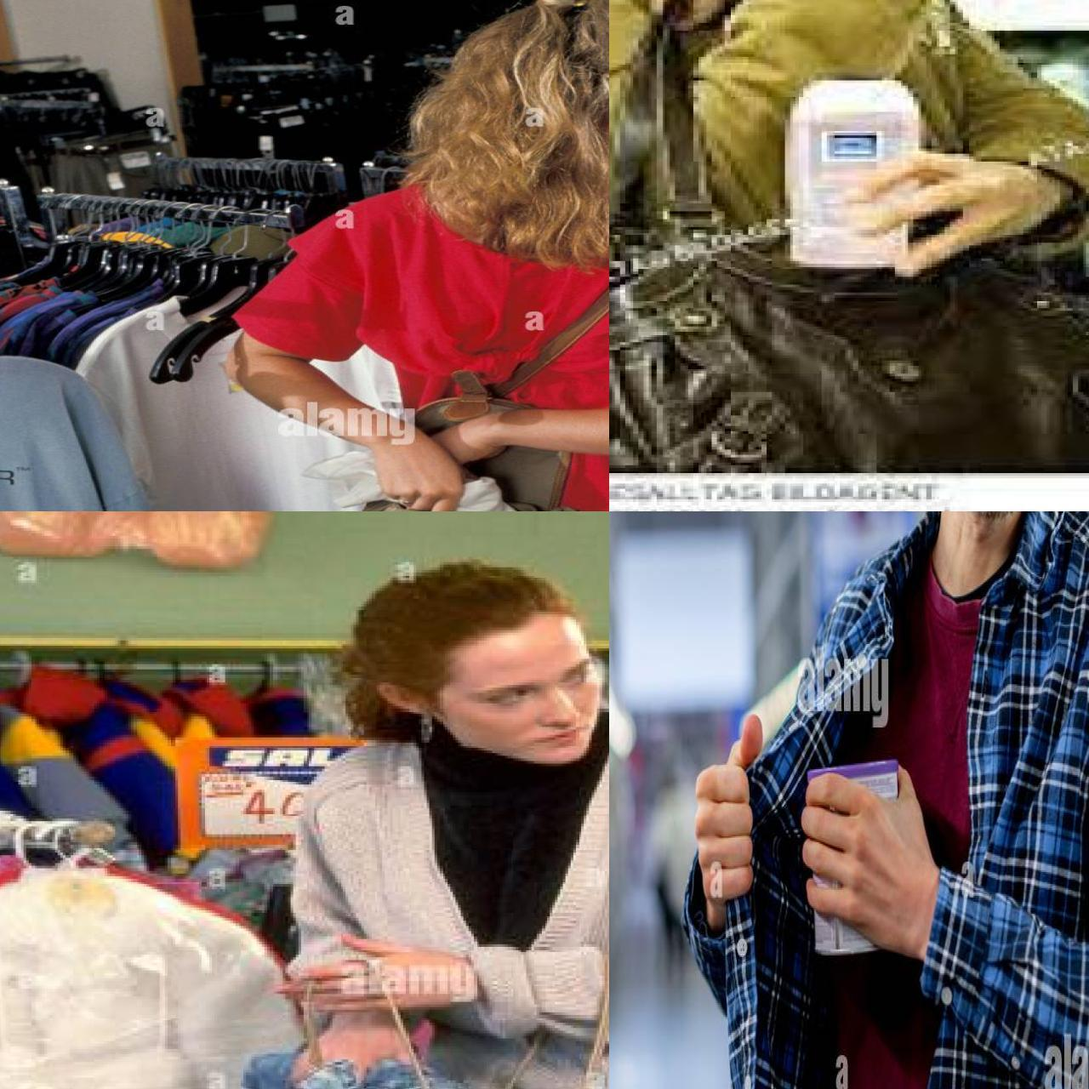shoplifting: (692, 675, 1001, 1080), (225, 335, 601, 509)
